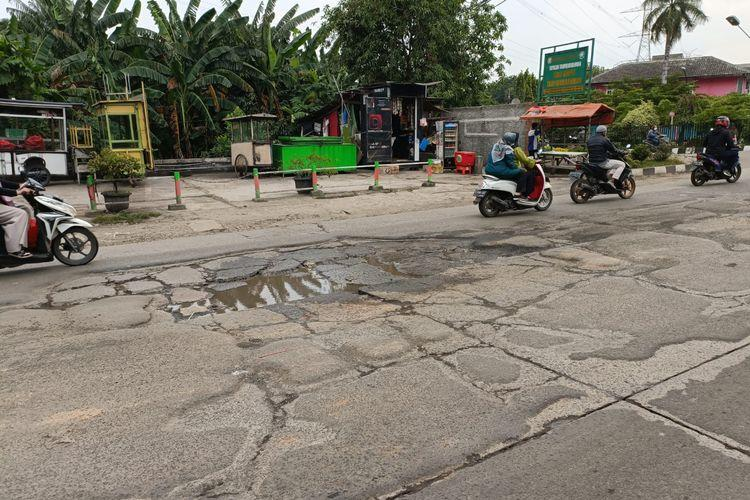Pothole: (373, 240, 544, 299), (156, 266, 377, 310)
